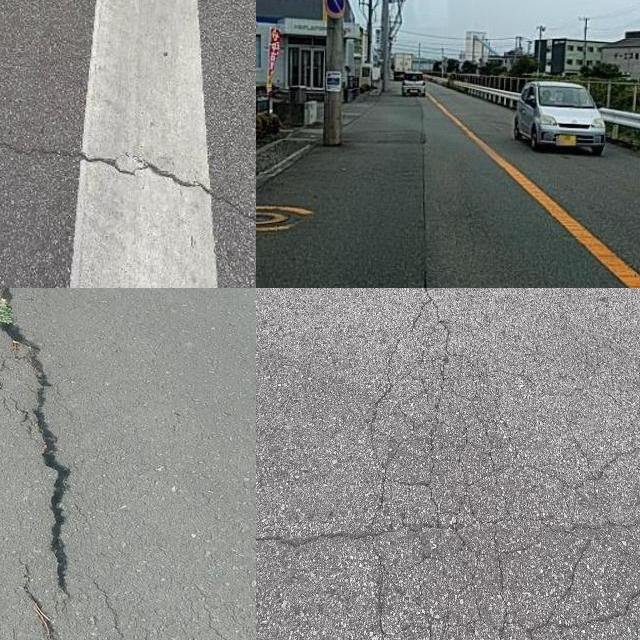Melintang: (0, 125, 256, 241), (256, 508, 640, 562)
Memanjang: (0, 288, 82, 640), (418, 288, 461, 515), (407, 110, 444, 288)
